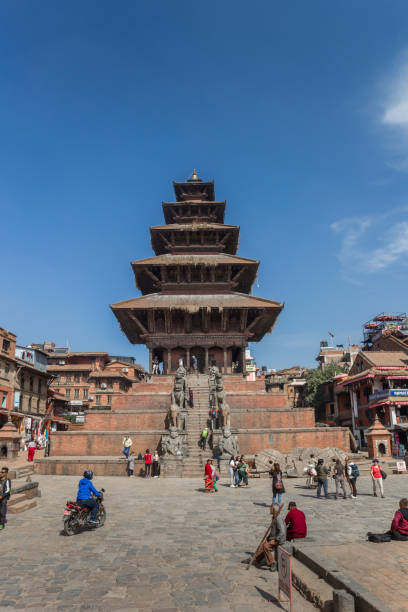nyathapola: (89, 169, 313, 465)
